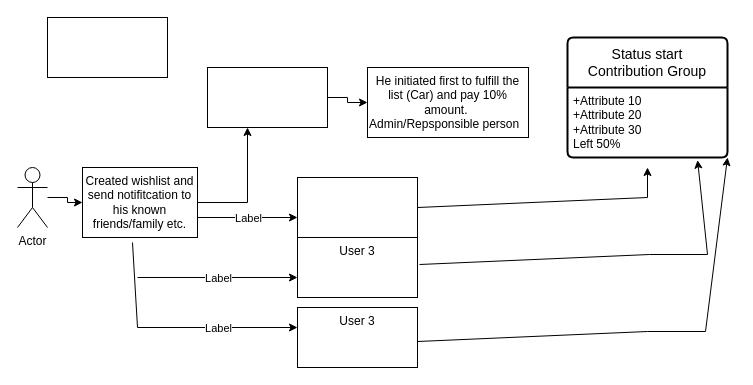
Some shapes in this 753 by 385 pixel diagram are drawn without their labels. The shapes that lost their labels are listed below. From the top down, each one's centre as x and y in pixels, then its label:
pixel 107 47: Wish List: Badminton, Car, Phone
pixel 267 97: User 1
pixel 357 207: User 2
